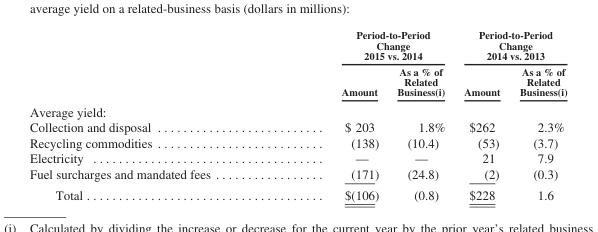table: (28, 28, 566, 201)
table column: (28, 28, 275, 201), (275, 28, 387, 201), (387, 28, 453, 201), (509, 28, 566, 201), (453, 28, 509, 201)
table column header: (28, 28, 566, 100)
table projected row header: (28, 100, 566, 119)
table row: (28, 63, 566, 100), (28, 28, 566, 63), (28, 100, 566, 119), (28, 165, 566, 183), (28, 183, 566, 201), (28, 134, 566, 150), (28, 119, 566, 134), (28, 150, 566, 165)
table spanning cell: (275, 28, 453, 63), (453, 28, 566, 63)
